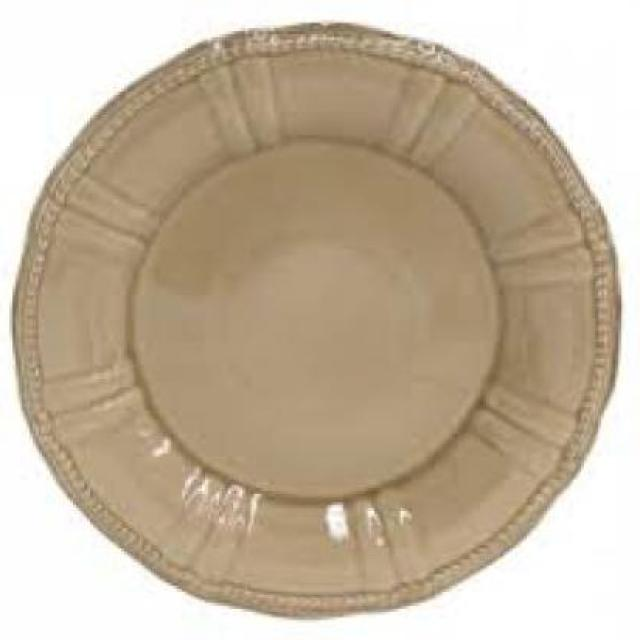kaca: (16, 20, 622, 614)
